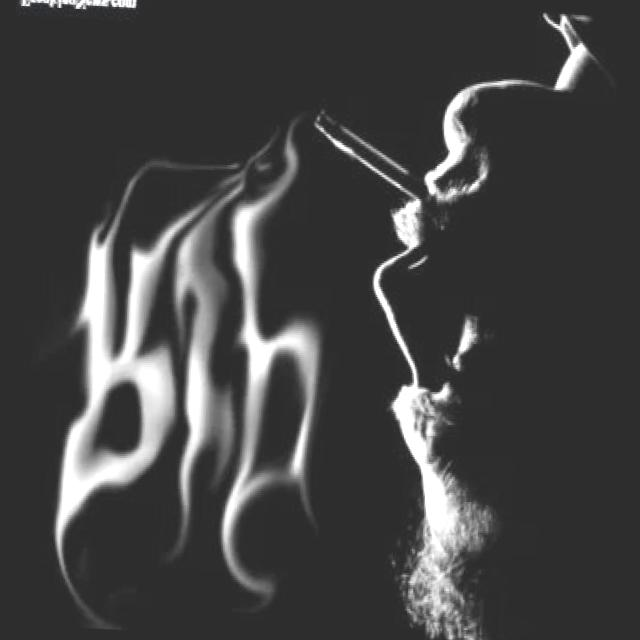cigarette: (310, 106, 433, 206)
